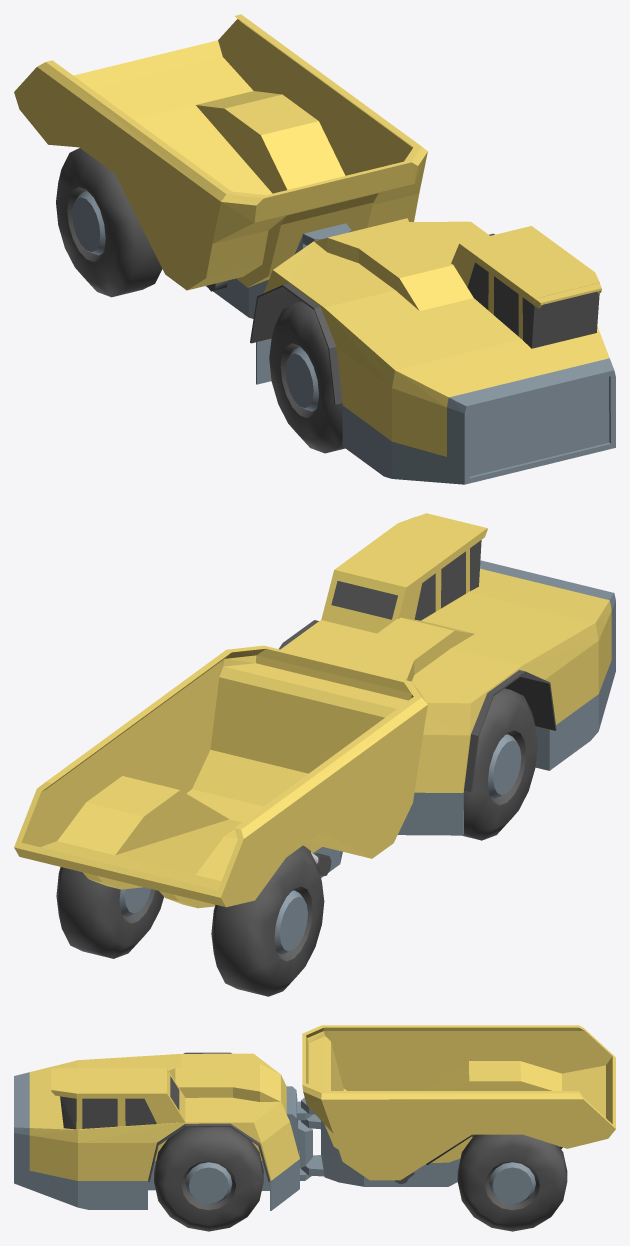
The model's file is Minetruck_1300_v.fbx.
3 views of the same model, one above another, from view 1: azimuth 30°, elevation 25°; view 2: azimuth 150°, elevation 25°; view 3: azimuth 270°, elevation 25° (orthographic). The views are drawn at different scales.
Parts seen in each view (by area): view 1: Minetruck; view 2: Minetruck; view 3: Minetruck.
Part boxes in pixels (<box>): Minetruck: <box>14,14,615,484</box>; Minetruck: <box>14,513,615,996</box>; Minetruck: <box>14,1025,615,1231</box>.
Bounding box in the file's own units: 319 × 272 × 1058.
